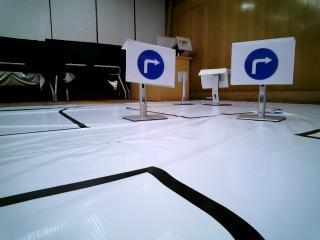right: (230, 43, 294, 85), (125, 40, 176, 81)
